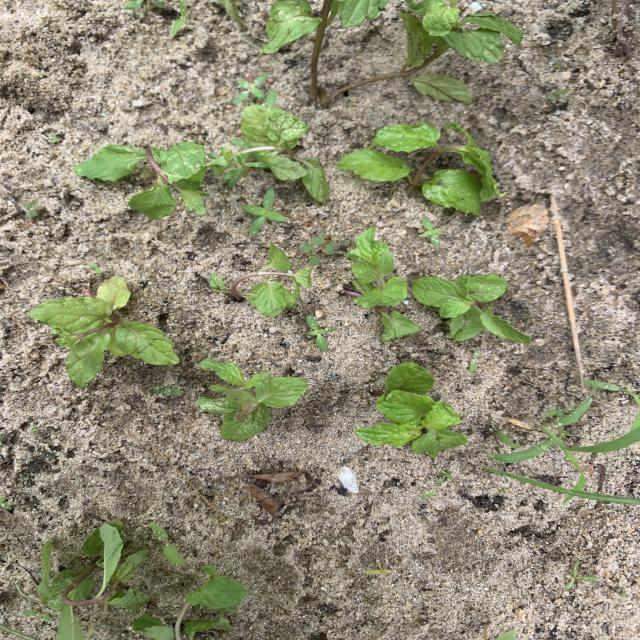crop: (263, 0, 523, 108), (28, 277, 178, 385), (339, 123, 504, 213), (39, 521, 149, 639), (355, 363, 467, 455), (75, 143, 208, 218), (238, 105, 328, 201), (198, 360, 307, 439), (134, 566, 247, 639), (346, 227, 418, 341), (414, 275, 531, 343), (209, 244, 311, 315)
weed: (491, 399, 640, 490), (208, 149, 260, 187), (243, 189, 286, 233), (583, 379, 640, 407), (151, 523, 184, 564), (300, 233, 342, 264), (235, 73, 268, 102), (566, 561, 599, 589), (307, 317, 334, 349), (421, 218, 442, 246), (172, 0, 187, 36), (23, 200, 43, 217), (547, 88, 568, 102), (153, 386, 182, 396), (468, 349, 479, 375), (23, 611, 51, 619), (366, 567, 391, 574), (438, 470, 451, 482), (1, 496, 11, 510), (420, 490, 436, 497), (90, 264, 102, 273), (50, 136, 60, 142)
